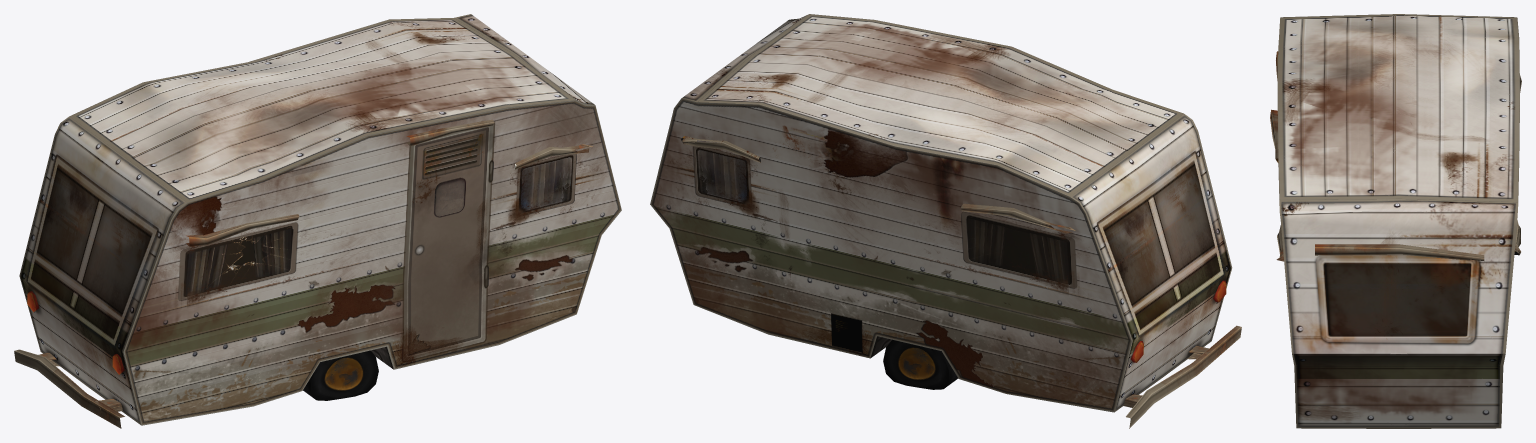
The model's file is trailer.fbx.
3 views of the same model, side by side, from view 1: azimuth 30°, elevation 25°; view 2: azimuth 150°, elevation 25°; view 3: azimuth 270°, elevation 25° (orthographic). The views are drawn at different scales.
Parts seen in each view (by area): view 1: Grunge_Trailer; view 2: Grunge_Trailer; view 3: Grunge_Trailer.
Boxes of the visible parts, x1,y1,x2,y2 form: Grunge_Trailer: [14, 14, 621, 428]; Grunge_Trailer: [650, 14, 1241, 428]; Grunge_Trailer: [1270, 14, 1521, 428].
Size of the model in its own units: 596 by 308 by 256.
Materials: 1 (1 with a texture image).
